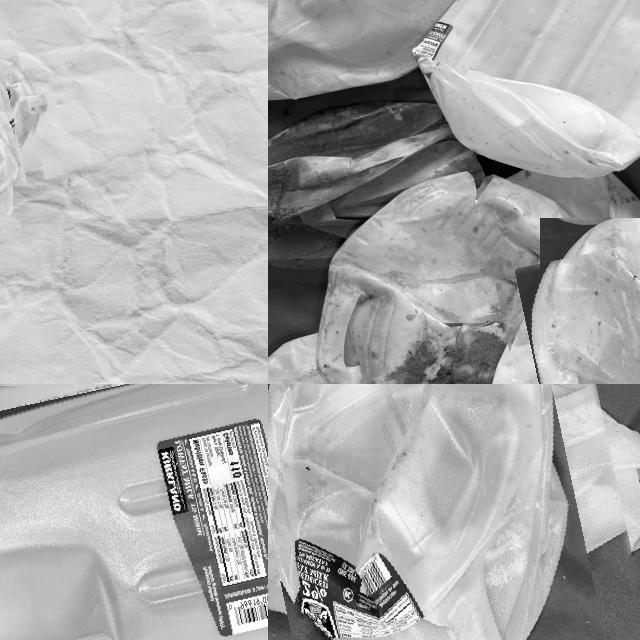milk-jug: (268, 384, 629, 640), (0, 384, 268, 640), (318, 179, 589, 384), (433, 0, 640, 172), (268, 0, 485, 108), (505, 228, 640, 384), (0, 41, 37, 204)
